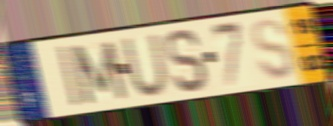7: (210, 18, 245, 91)
I: (55, 43, 84, 111)
M: (68, 39, 130, 107)
S: (164, 27, 212, 94), (251, 16, 297, 82)
U: (119, 31, 173, 99)
